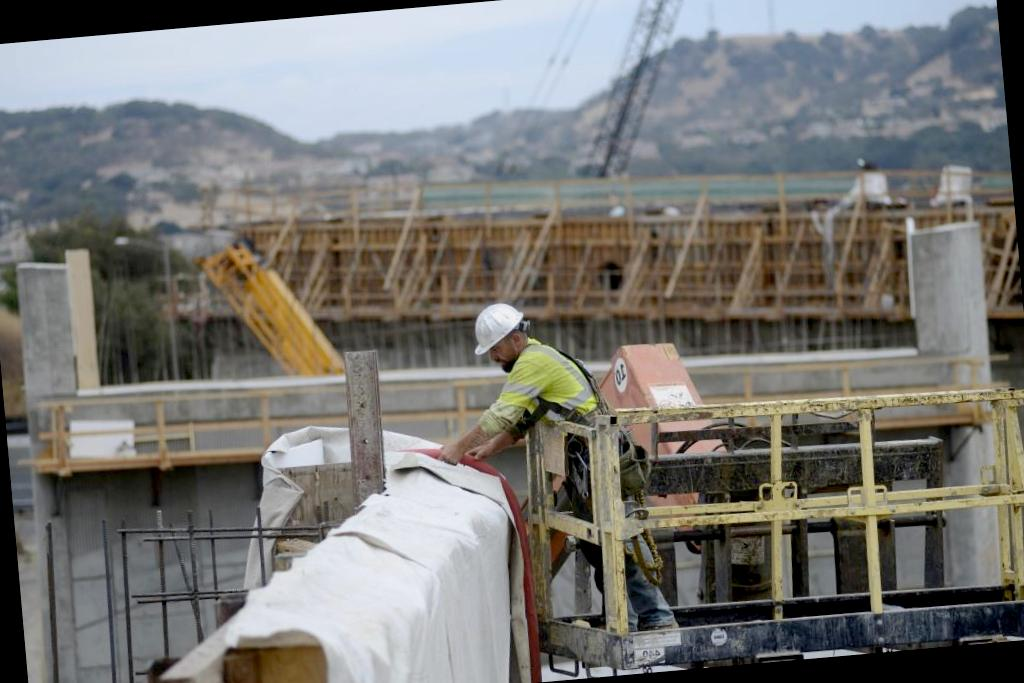helmet: (464, 288, 532, 362)
person: (453, 275, 651, 672)
